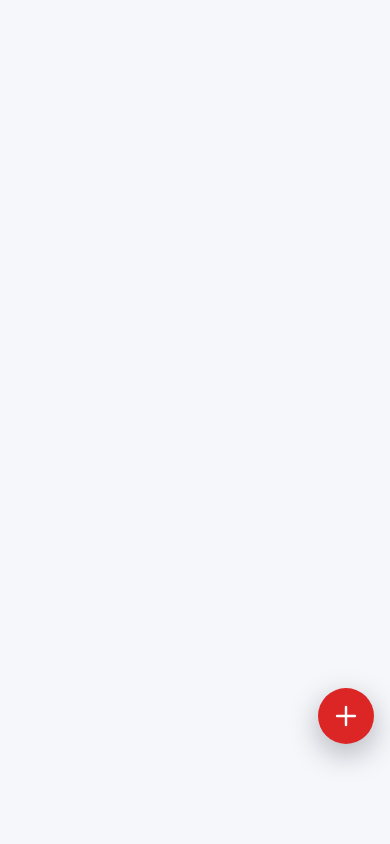
it: MobileFab › collapses multiple actions into a speed dial
Click the button named "Inventory actions": [346, 716] box [318,688,374,744]
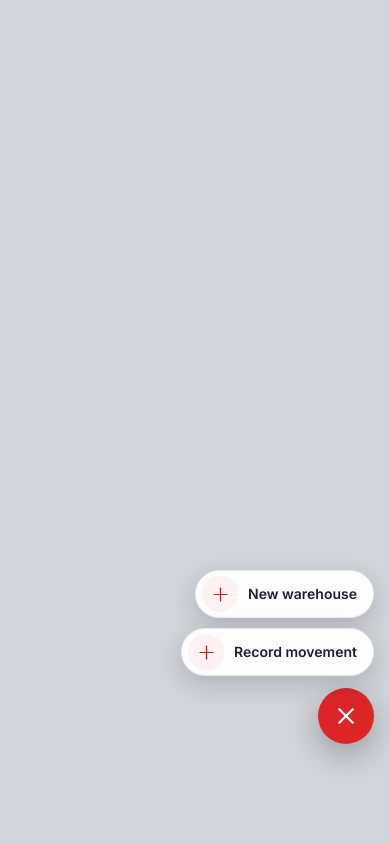
Now the menu is shown, box [181,570,374,676]
Click the menu item "New warehouse": [285, 594] box [195,570,374,618]
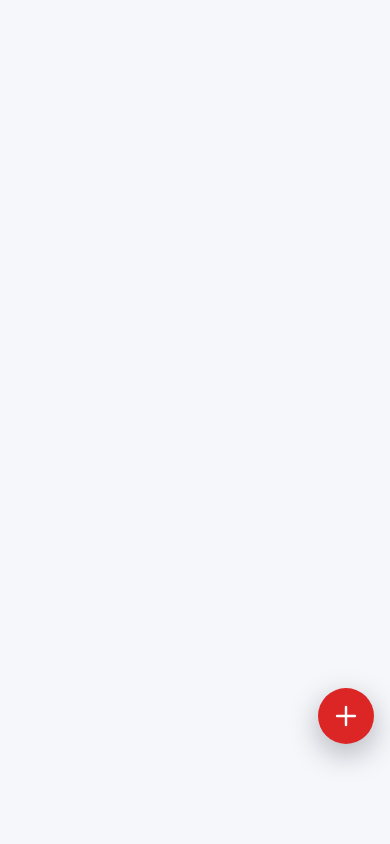
Now the menu is gone
